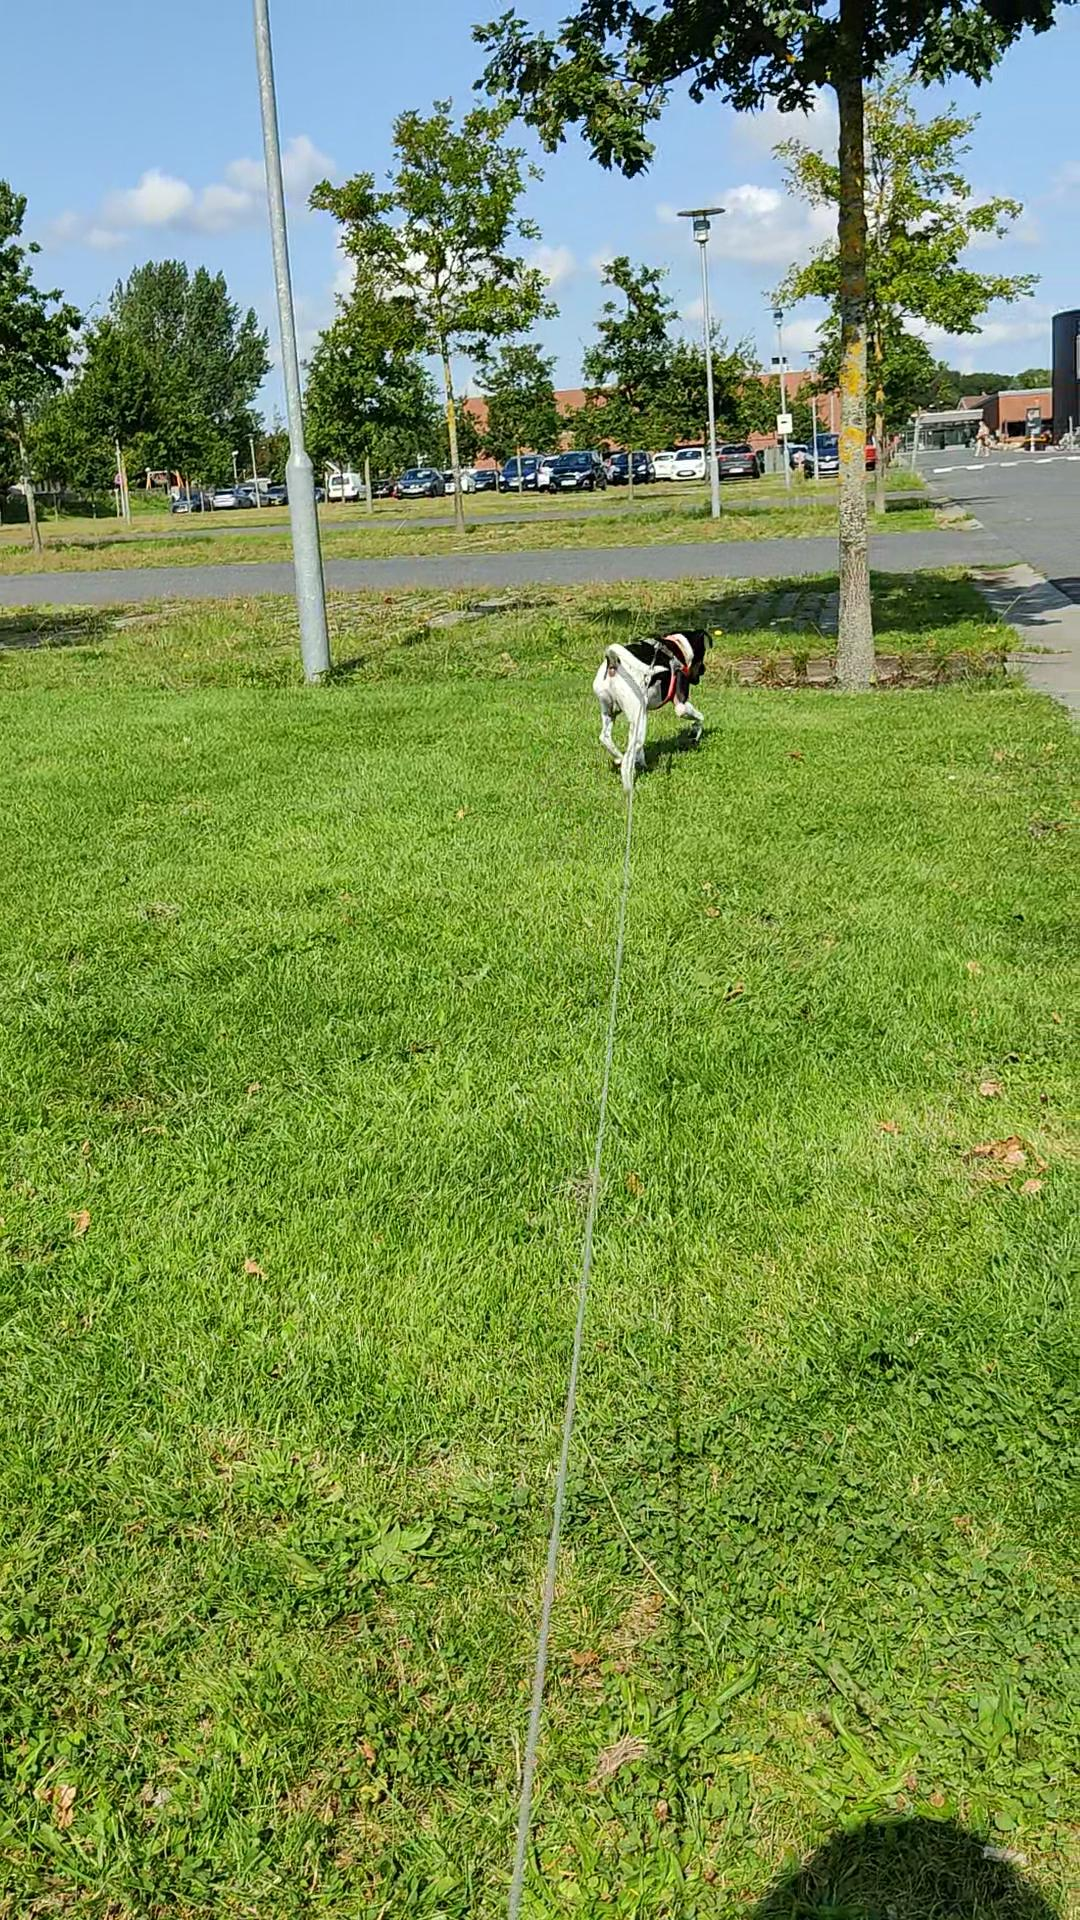Dog: (582, 620, 723, 798)
